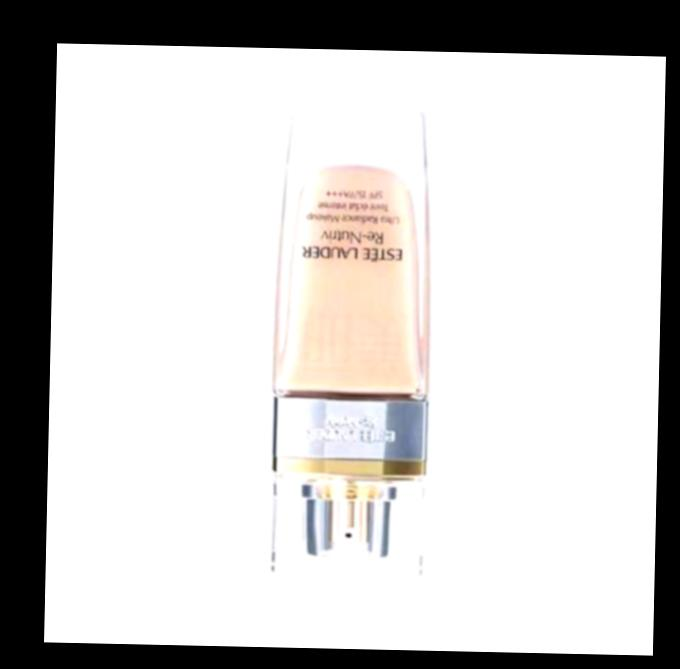cosmetic: (273, 105, 433, 576)
